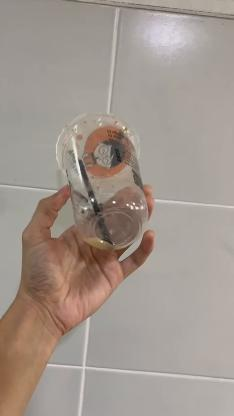Plastic Cup: (54, 111, 150, 251)
